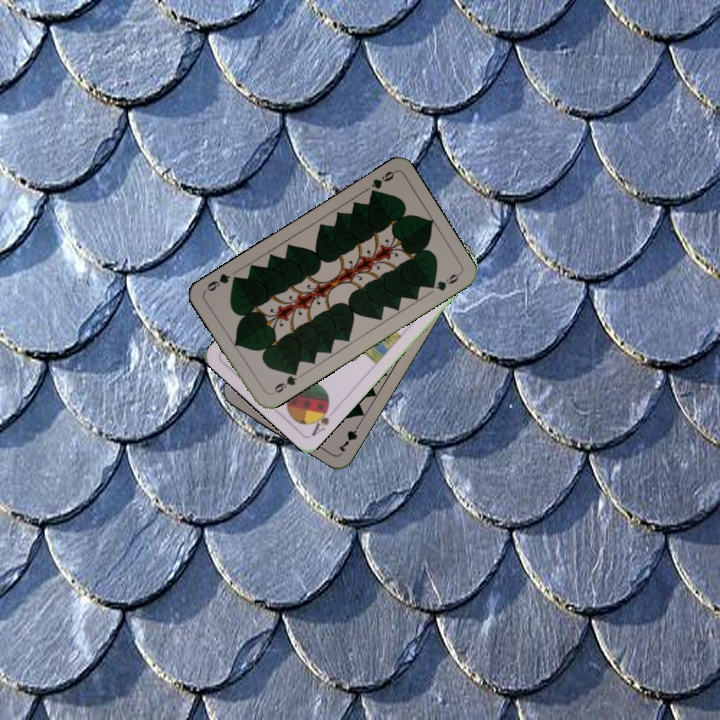G7: (334, 418, 363, 455)
G9: (366, 167, 398, 199), (270, 366, 300, 396)
SA: (307, 401, 332, 439)
